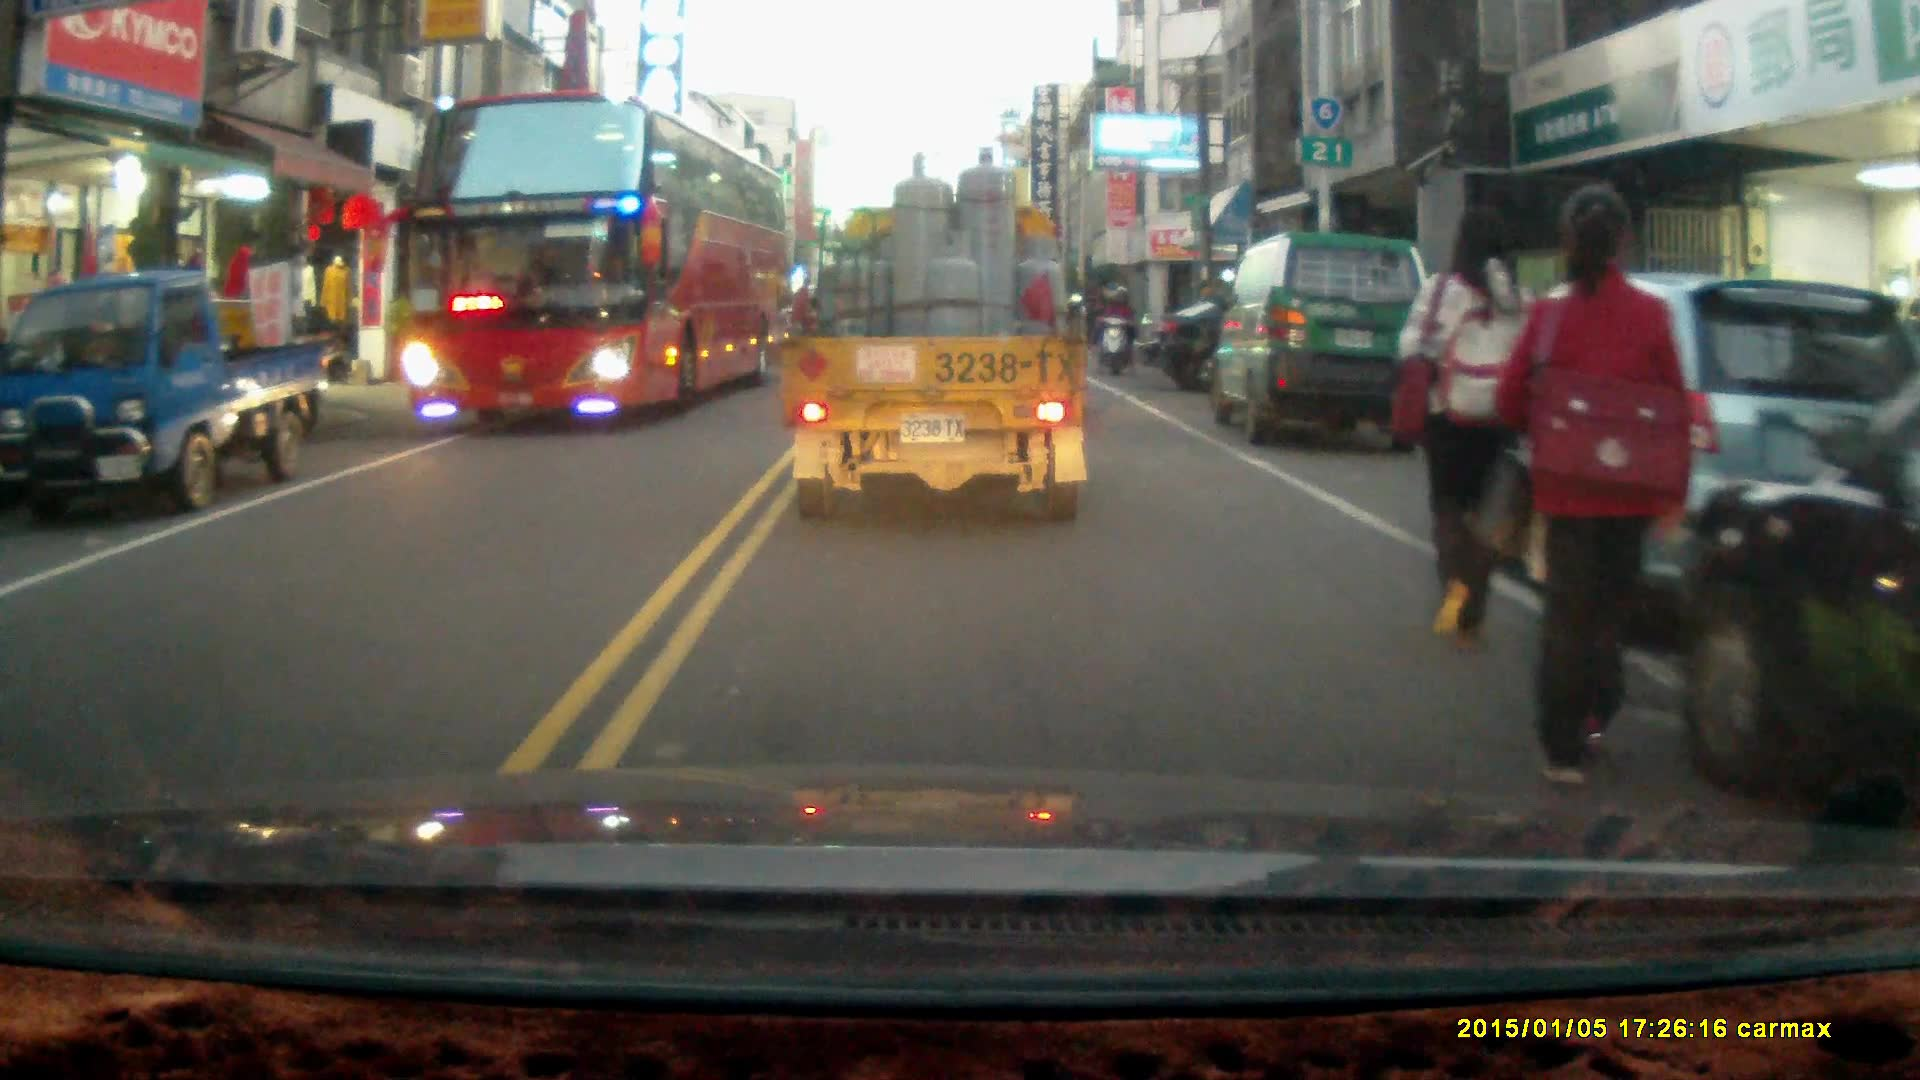pedestrian: (1489, 184, 1689, 794), (1398, 199, 1537, 663)
rider: (1092, 283, 1135, 375)
vehicle: (396, 92, 791, 433), (782, 146, 1094, 526), (1671, 391, 1920, 816), (1, 272, 332, 515), (1212, 230, 1434, 442), (1132, 301, 1425, 399)
